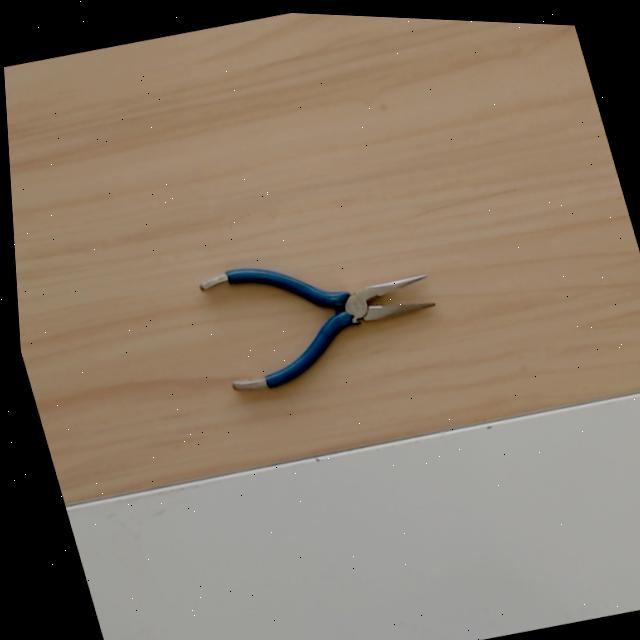Tang-Jepit-Biru: (197, 215, 445, 400)
